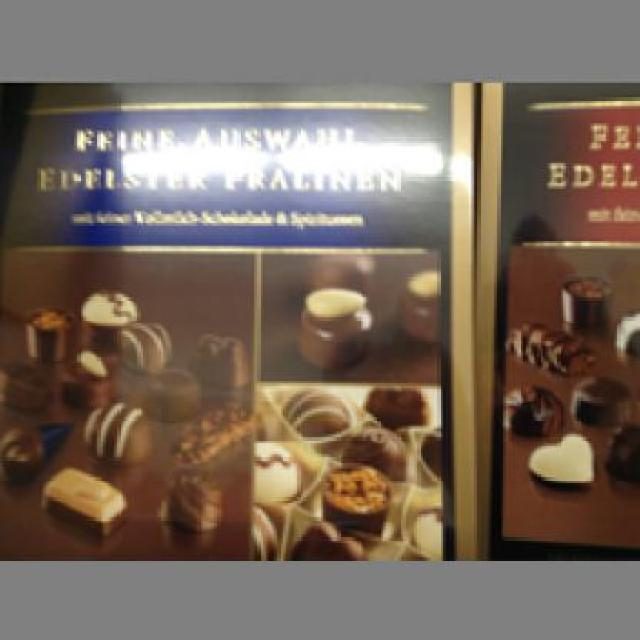Chocolate: (0, 79, 469, 555), (472, 80, 638, 540)
